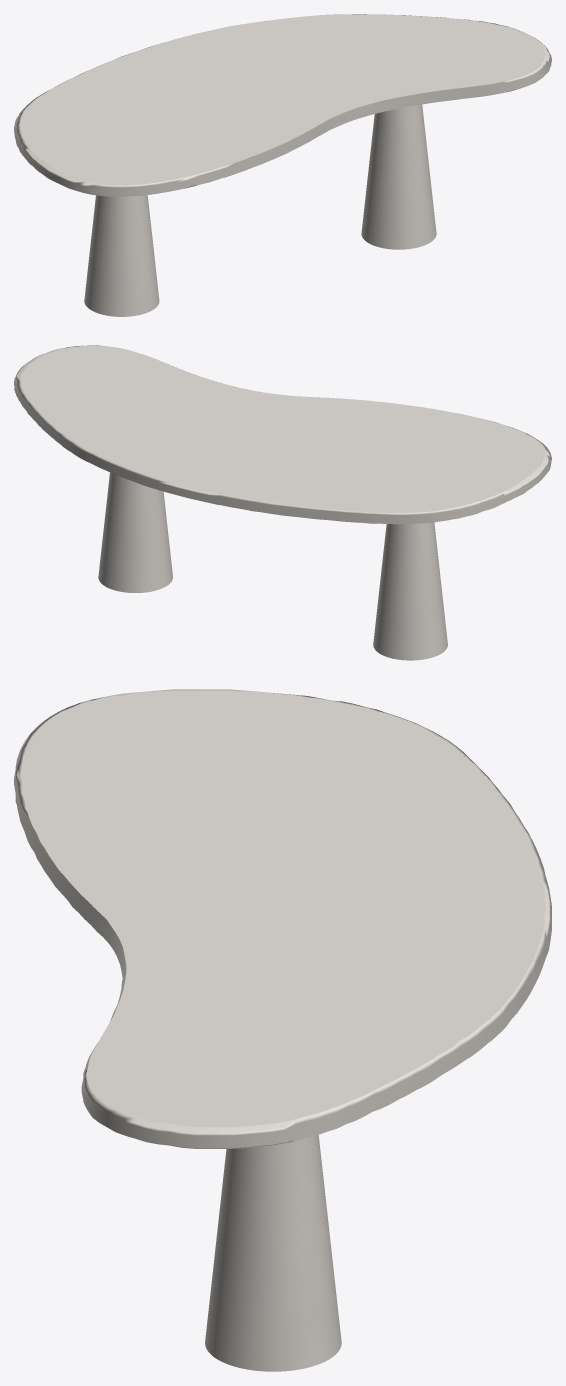
File: pearlwhite_leaf1_round_pebble.glb
3 renders of one model, top to bottom at view 1: azimuth 30°, elevation 25°; view 2: azimuth 150°, elevation 25°; view 3: azimuth 270°, elevation 25°, orthographic. The views are drawn at different scales.
Parts seen in each view (by area): view 1: round_leaf1, pebble; view 2: round_leaf1, pebble; view 3: round_leaf1, pebble.
Boxes of the visible parts, x1,y1,x2,y2 form: round_leaf1: [14, 14, 551, 196]; pebble: [84, 104, 436, 316]; round_leaf1: [14, 345, 551, 524]; pebble: [98, 472, 447, 660]; round_leaf1: [14, 689, 551, 1148]; pebble: [205, 1135, 341, 1371].
Size of the model in its own units: 7.49 by 2.51 by 3.8.
1 material, 1 textured.
